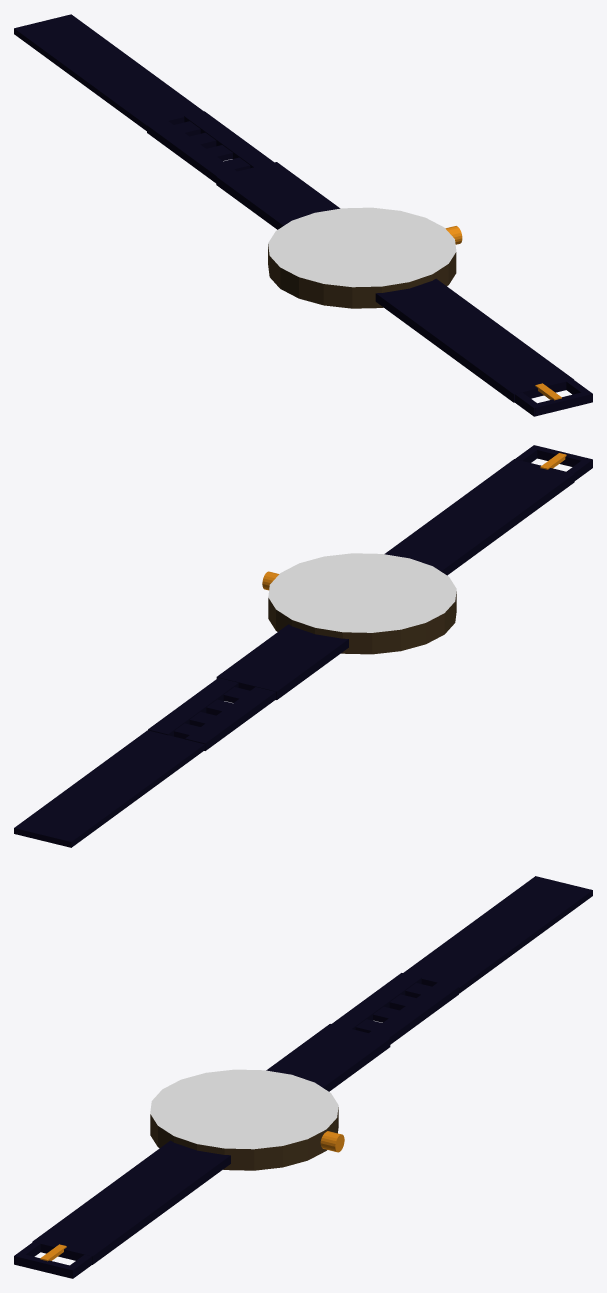
The model's file is watch.fbx.
3 renders of one model, top to bottom at view 1: azimuth 30°, elevation 25°; view 2: azimuth 150°, elevation 25°; view 3: azimuth 330°, elevation 25°, orthographic.
Visible parts, largest first — view 1: Cylinder.002, Cube, Cube.012, Cube.005, Cylinder, Cube.006, Cube.007, Cube.003; view 2: Cylinder.002, Cube, Cube.012, Cube.005, Cylinder, Cube.006, Cube.007; view 3: Cylinder.002, Cube, Cube.012, Cube.005, Cylinder, Cube.007, Cube.006, Cube.003.
Part boxes in pixels (x1,y1,x2,y2): Cylinder.002: (268, 207, 456, 287); Cube: (375, 278, 573, 402); Cube.012: (14, 14, 203, 130); Cube.005: (216, 162, 340, 229); Cylinder: (268, 244, 456, 308); Cube.006: (147, 120, 236, 183); Cube.007: (184, 111, 273, 168); Cube.003: (535, 392, 590, 416); Cylinder.002: (268, 553, 456, 632); Cube: (384, 459, 574, 575); Cube.012: (14, 730, 204, 847); Cube.005: (216, 624, 348, 699); Cylinder: (268, 591, 456, 654); Cube.006: (185, 687, 275, 750); Cube.007: (148, 678, 238, 736); Cylinder.002: (150, 1069, 338, 1149); Cube: (32, 1140, 230, 1264); Cube.012: (403, 876, 592, 993); Cube.005: (266, 1024, 390, 1091); Cylinder: (150, 1107, 338, 1170); Cube.007: (369, 982, 458, 1044); Cube.006: (332, 973, 421, 1029); Cube.003: (15, 1254, 71, 1278).
Bounding box in the file's own units: 4.33 × 0.5 × 21.99.
